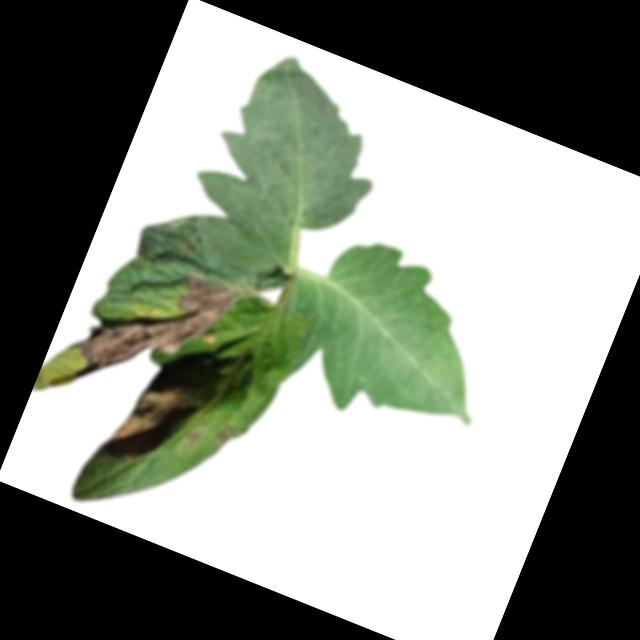Late_blight: (64, 240, 247, 422), (101, 357, 204, 478), (178, 423, 205, 461), (212, 422, 240, 449)
healthy: (256, 217, 523, 460), (179, 39, 409, 283)
